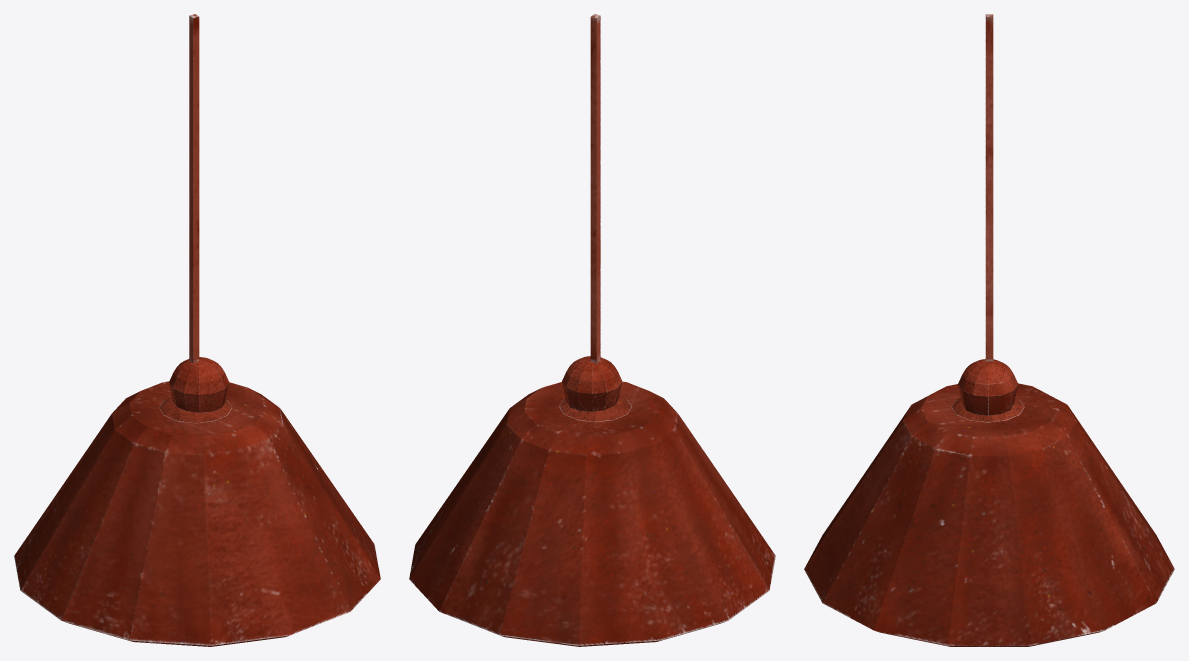
The model's file is lamparita_.obj.
The picture shows the model from 3 angles, left to right: view 1: azimuth 30°, elevation 25°; view 2: azimuth 150°, elevation 25°; view 3: azimuth 270°, elevation 25°; orthographic projection.
Parts seen in each view (by area): view 1: Cylinder, Cube, Sphere.002, Sphere.001; view 2: Cylinder, Cube, Sphere.002, Sphere.001; view 3: Cylinder, Cube, Sphere.002, Sphere.001.
Part boxes in pixels (x1,y1,x2,y2): Cylinder: (14, 381, 380, 646); Cube: (189, 14, 199, 363); Sphere.002: (169, 357, 229, 412); Sphere.001: (159, 397, 232, 423); Cylinder: (409, 381, 775, 646); Cube: (590, 14, 600, 363); Sphere.002: (562, 356, 622, 411); Sphere.001: (559, 396, 631, 422); Cylinder: (804, 383, 1174, 646); Cube: (985, 14, 993, 361); Sphere.002: (958, 359, 1018, 415); Sphere.001: (951, 397, 1024, 422).
Bounding box in the file's own units: 1.97 × 3.35 × 2.02.
Materials: 1 (1 with a texture image).
